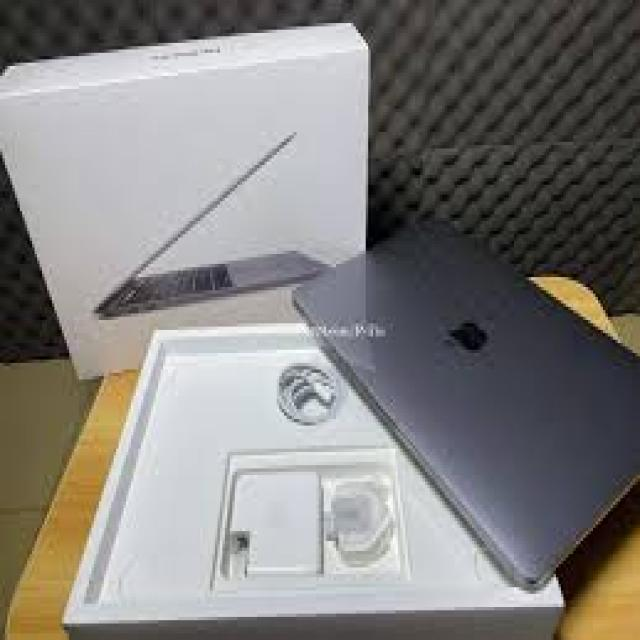laptop: (289, 218, 640, 587)
